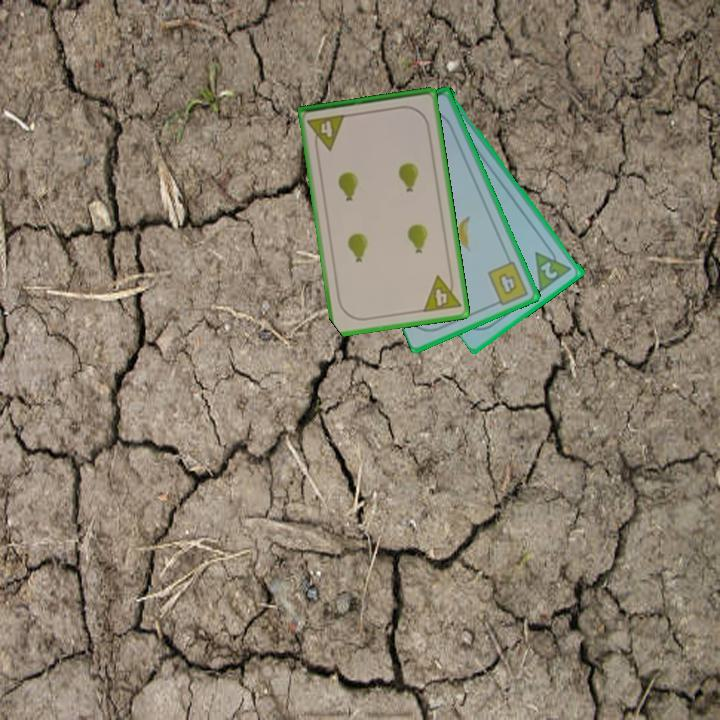2p: (537, 258, 561, 282)
4b: (484, 257, 531, 309)
4p: (419, 270, 464, 315), (304, 111, 348, 154)
